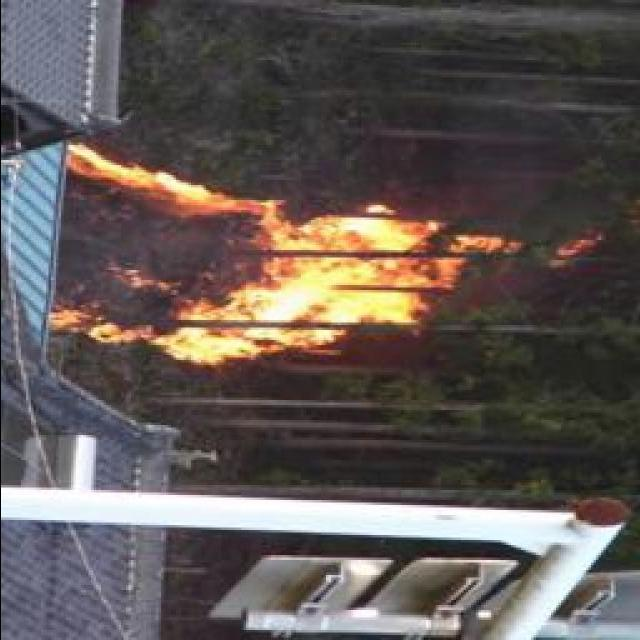Fire: (51, 150, 504, 370)
